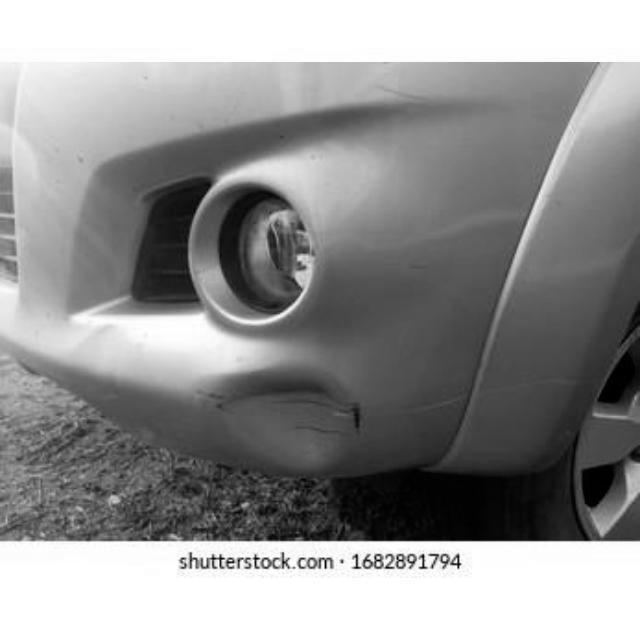front-bumper-dent: (13, 151, 623, 505), (4, 151, 620, 492)
